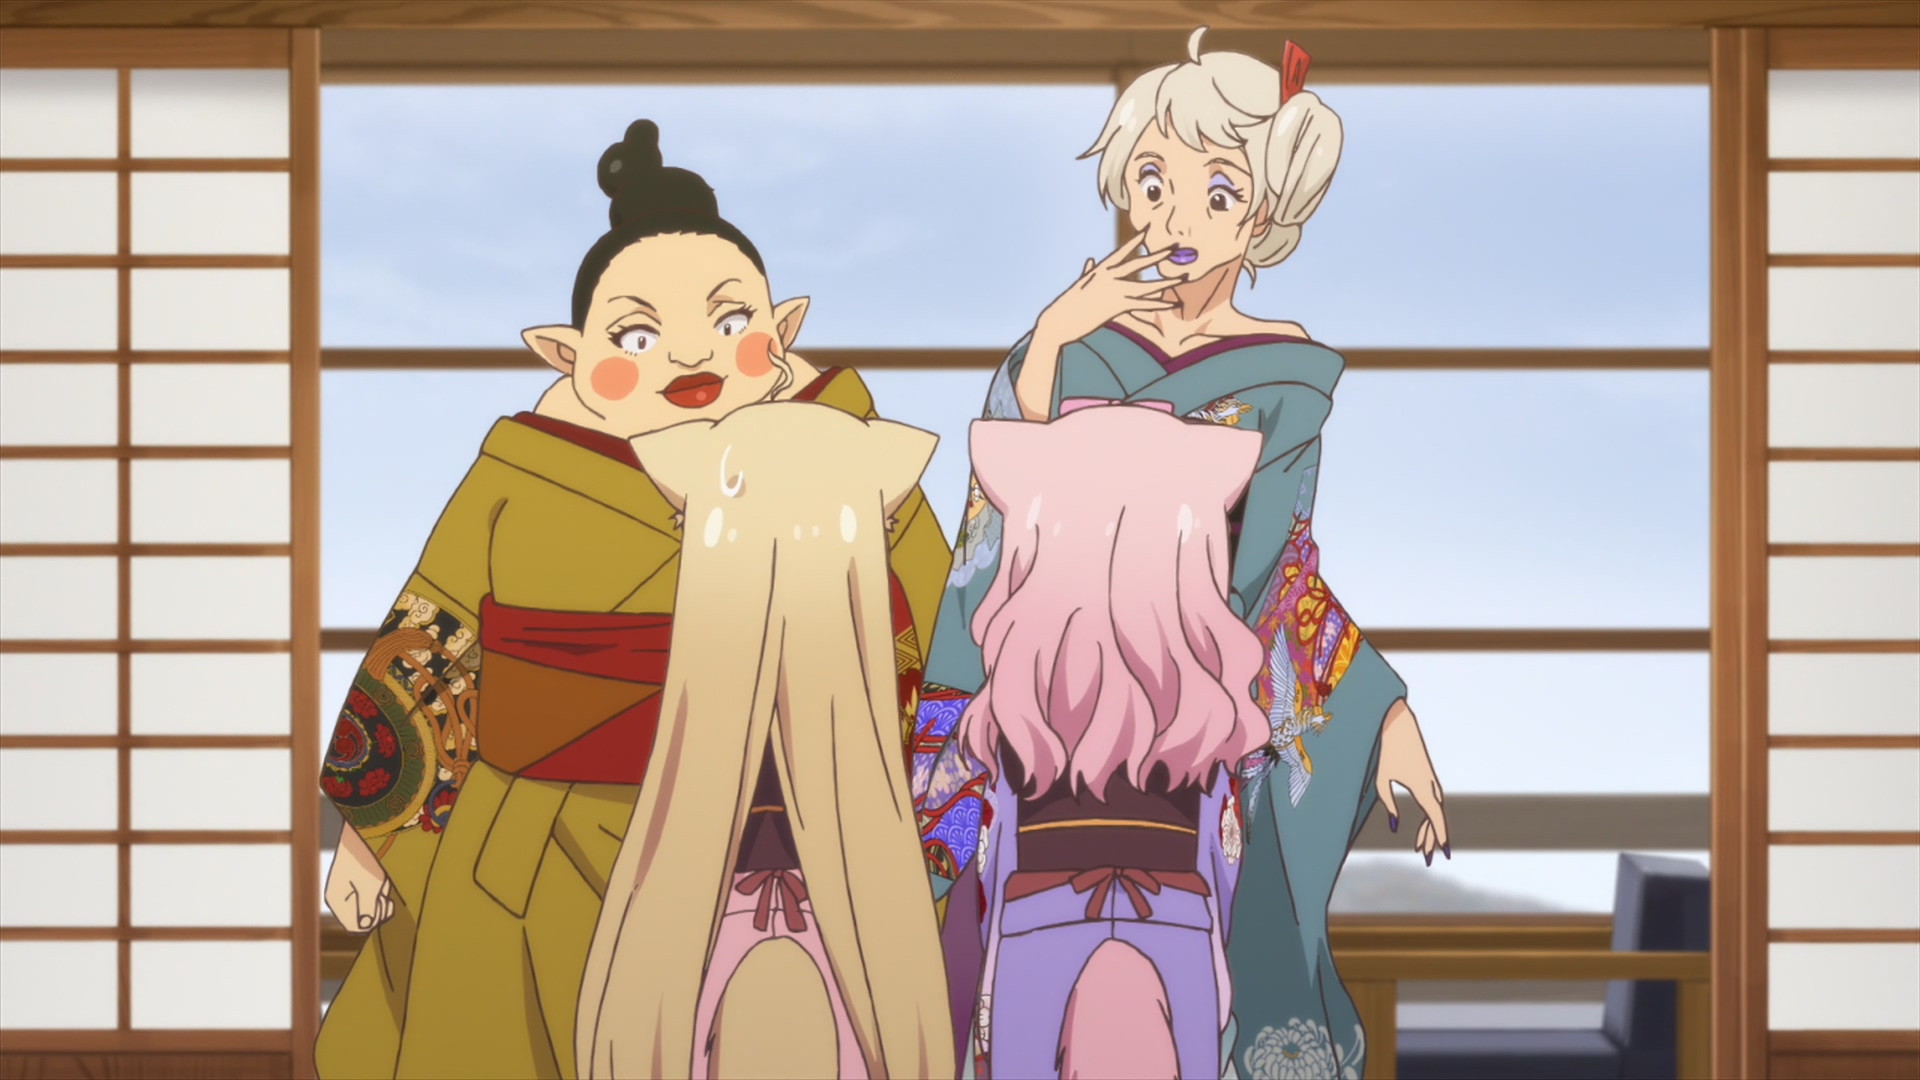其他: (311, 120, 955, 1080), (911, 26, 1451, 1080)
柚: (575, 339, 957, 1080)
莲: (959, 397, 1271, 1080)
